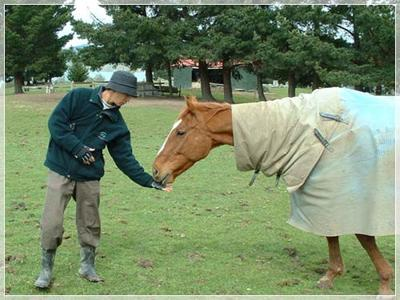person: (34, 68, 176, 291)
